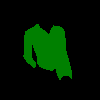camicia: (22, 24, 72, 80)
